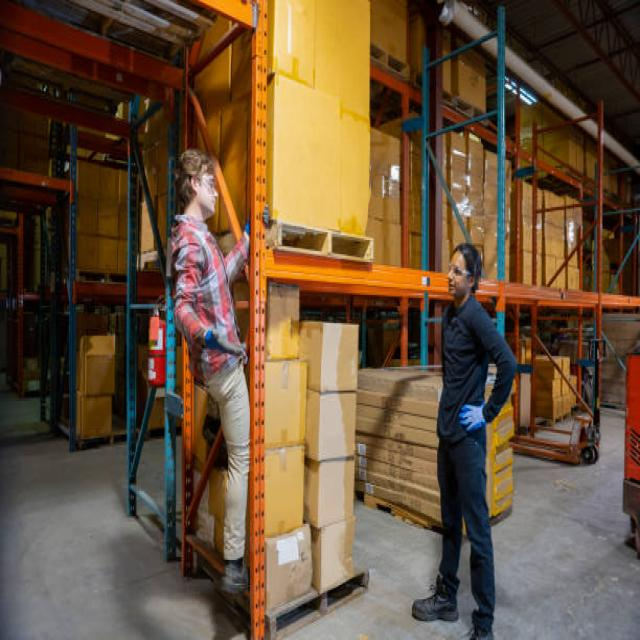Wooden-Pallets: (268, 565, 370, 640), (273, 214, 378, 268)
